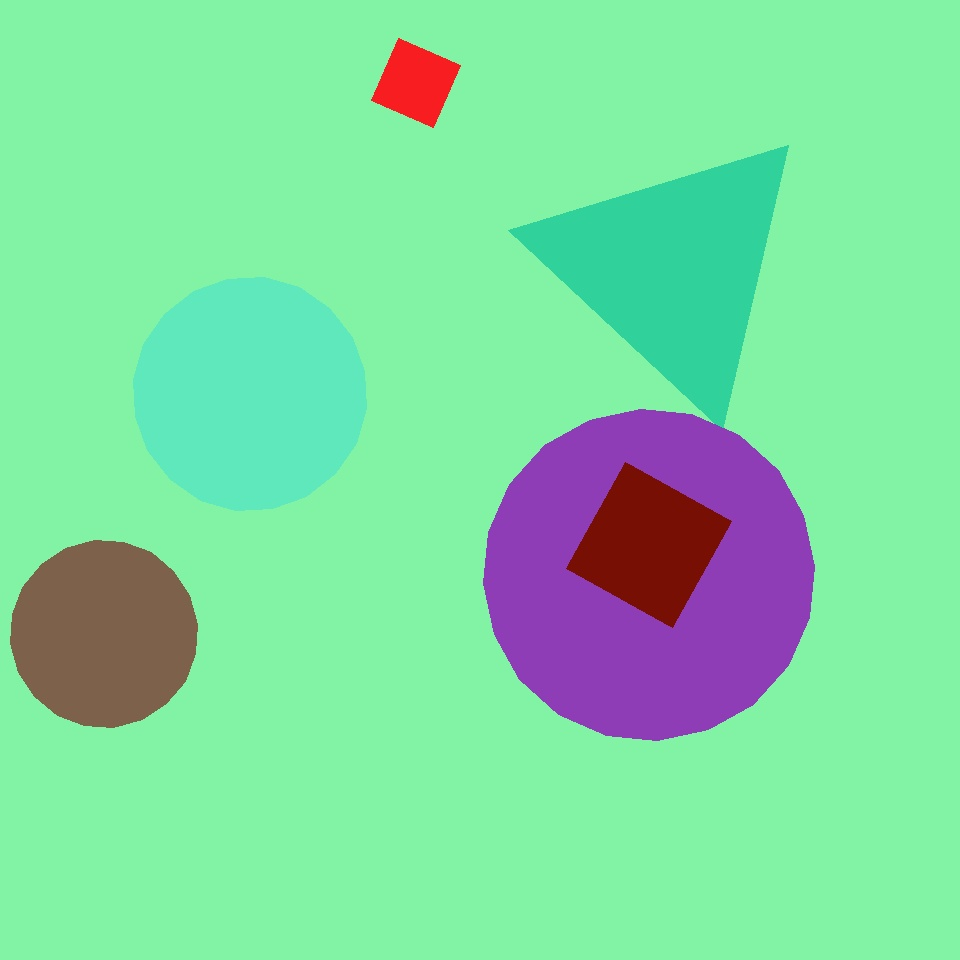circle: (385, 167, 679, 444), (533, 126, 813, 412)
square: (566, 463, 732, 628), (562, 62, 717, 218), (372, 38, 461, 128)
triangle: (484, 410, 814, 740), (385, 610, 629, 853), (134, 278, 366, 510), (11, 540, 198, 728)
